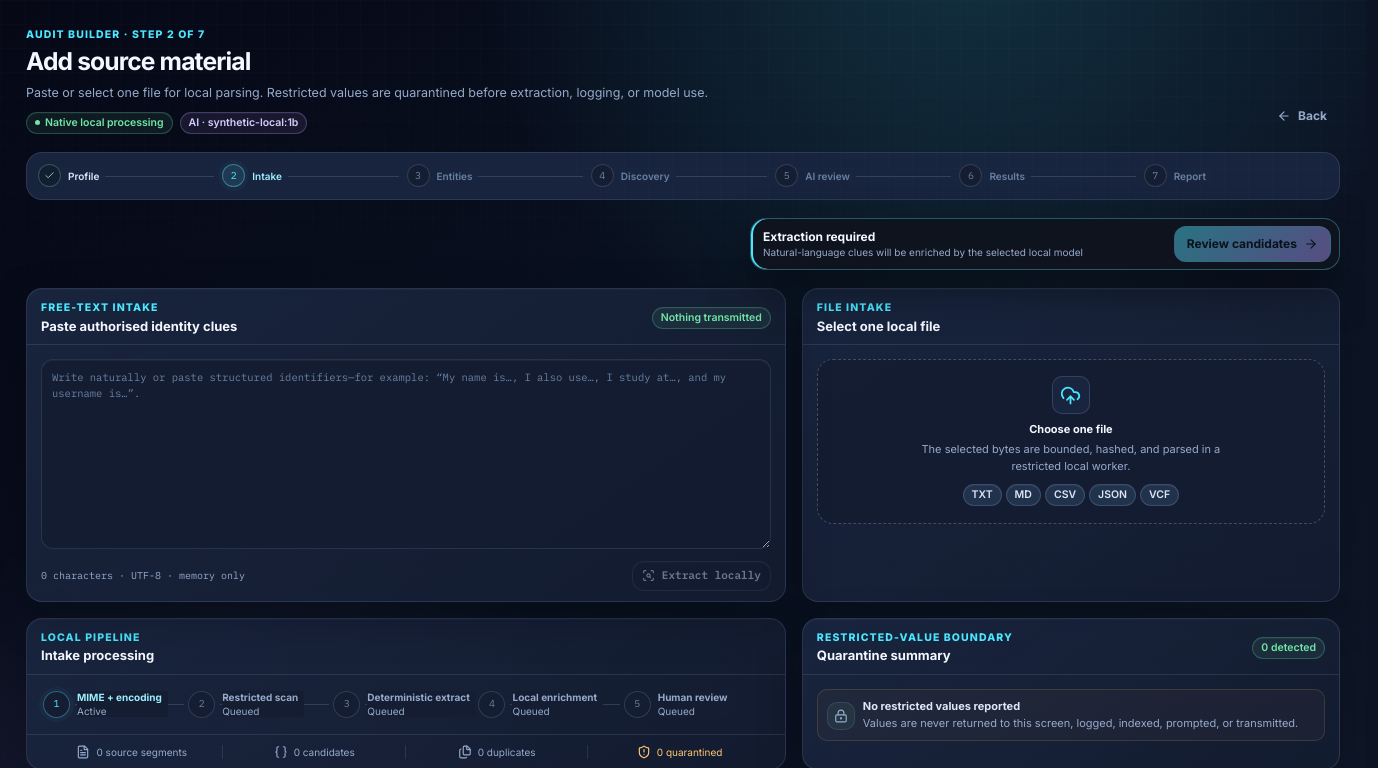
Test: native Phase 3 UI flow › distinguishes an invalid model completion from an unavailable local service
This screenshot has width=1378, height=768.
Type "Synthetic natural-language identity clue." into the text box named "Local source text" at point(406, 454), box [41,359,771,549]
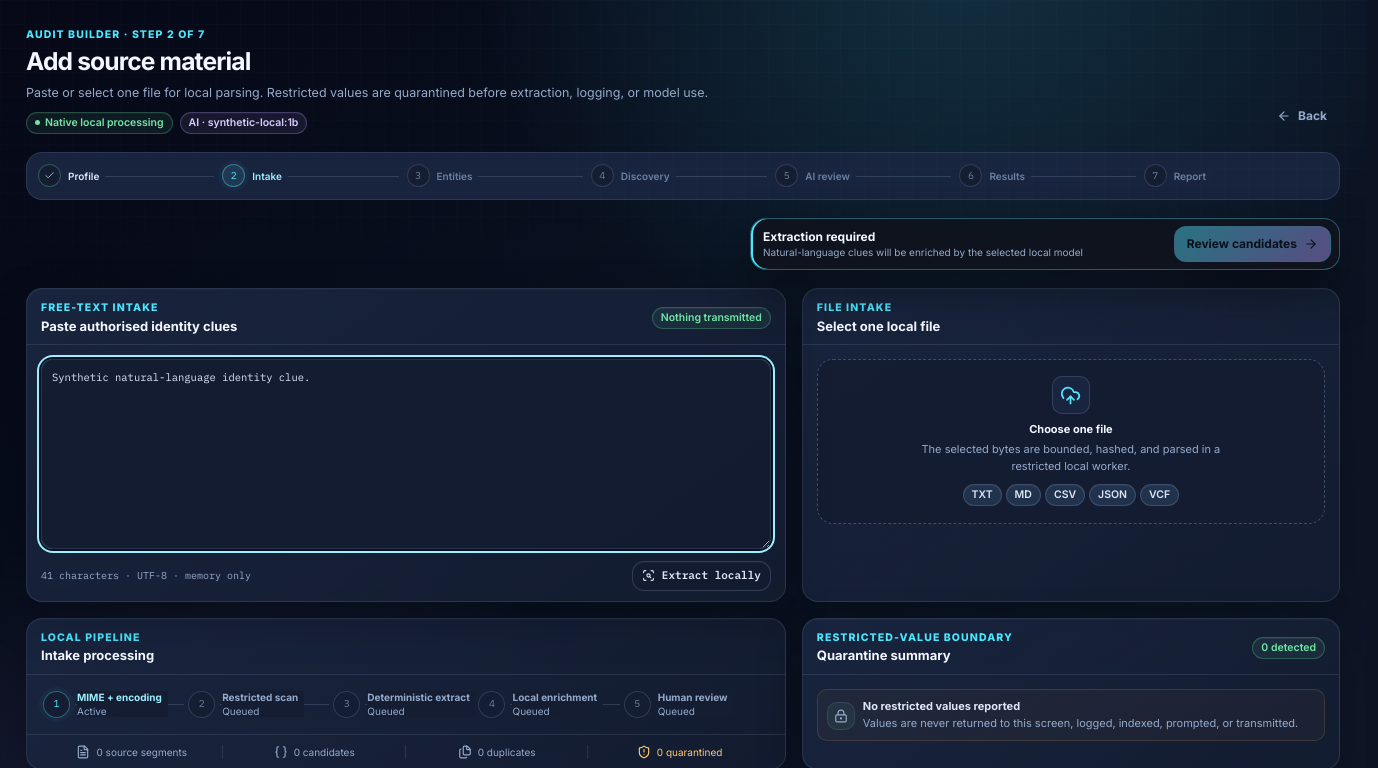
Click the button "Extract locally" at point(701, 576), box [632,561,771,591]
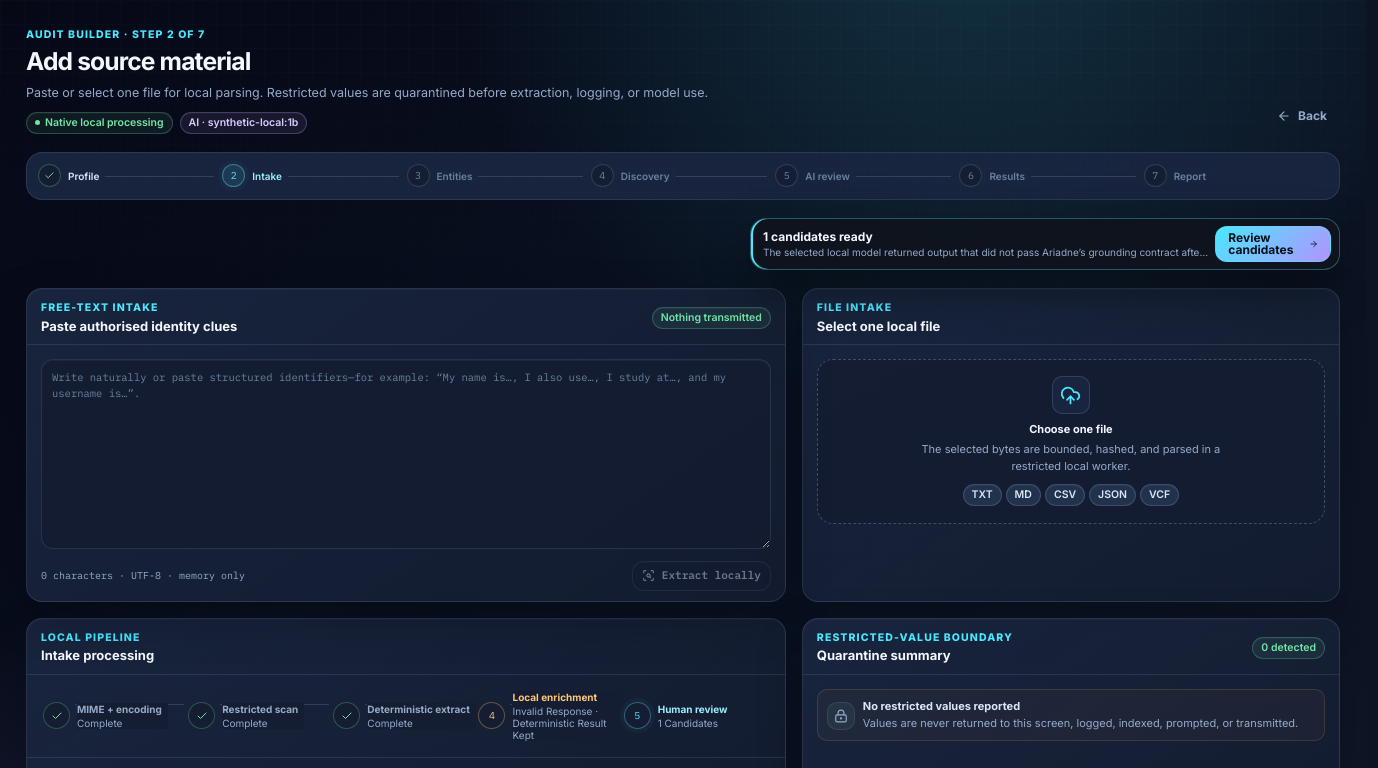
Check: the text "Invalid response · deterministic result kept" is shown, box [512,705,618,741]
Check: the text "enriched by the selected local model" is gone
